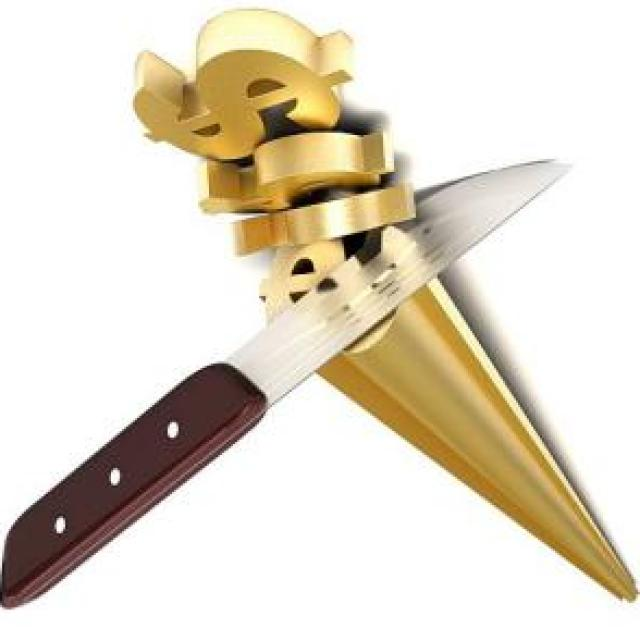knife: (0, 148, 577, 614)
